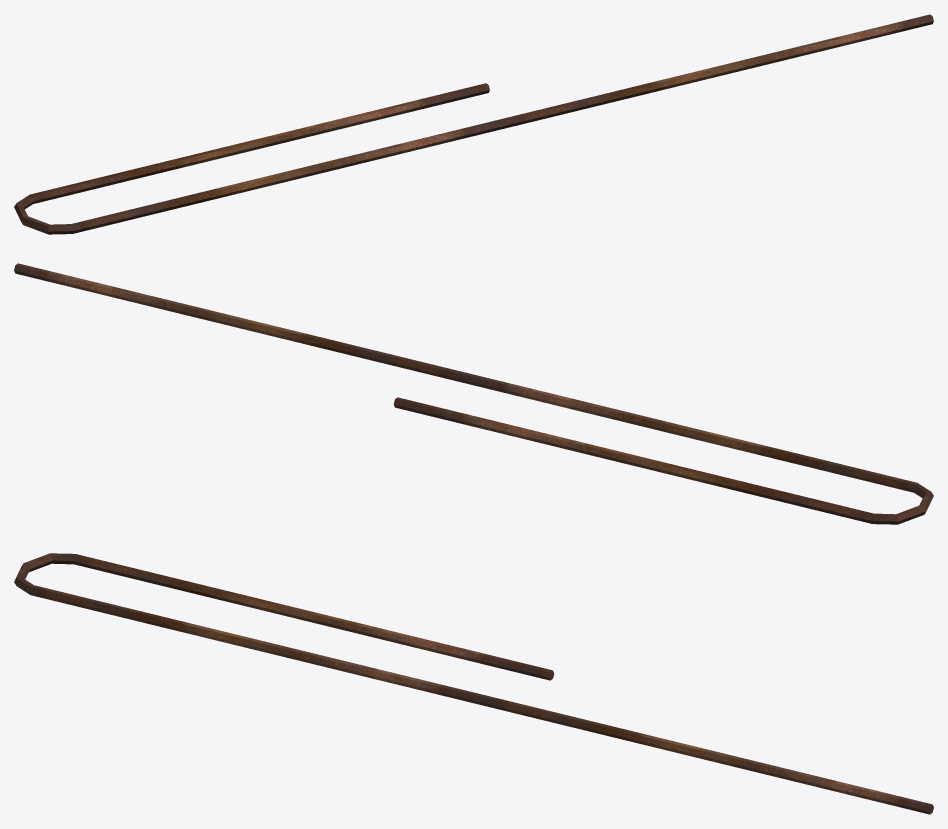
Rendered from ALV-FIX-002.glb.
3 renders of one model, top to bottom at view 1: azimuth 30°, elevation 25°; view 2: azimuth 150°, elevation 25°; view 3: azimuth 330°, elevation 25°, orthographic. The views are drawn at different scales.
Parts seen in each view (by area): view 1: ALV-FIX-002_barra; view 2: ALV-FIX-002_barra; view 3: ALV-FIX-002_barra.
Boxes of the visible parts, x1,y1,x2,y2 form: ALV-FIX-002_barra: (14,14,933,234); ALV-FIX-002_barra: (14,263,933,524); ALV-FIX-002_barra: (14,553,933,814).
Bounding box in the file's own units: 0.5075 × 0.00434 × 0.045.
1 material, 1 textured.
